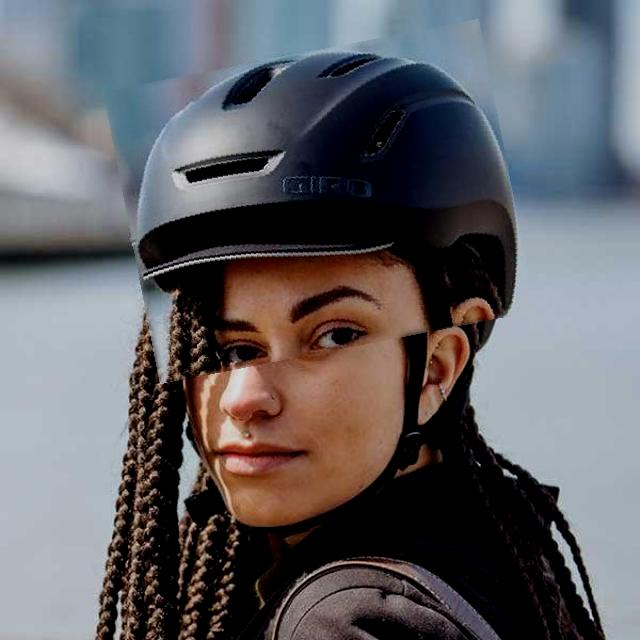helmet: (116, 36, 523, 368)
